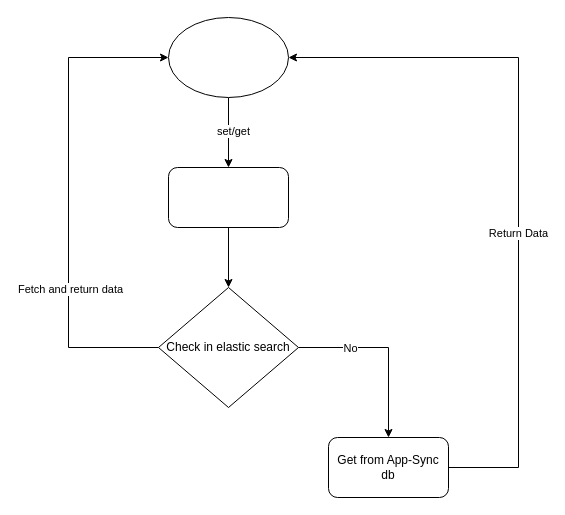
This 565x515 diagram has some shape labels left out. The shapes that lost their labels are listed below. From the top down, each one's box as (x1, y1, x2, y2) in pixels, then its label:
(168, 16, 288, 98): Request
(168, 166, 288, 228): Aws Lambda
